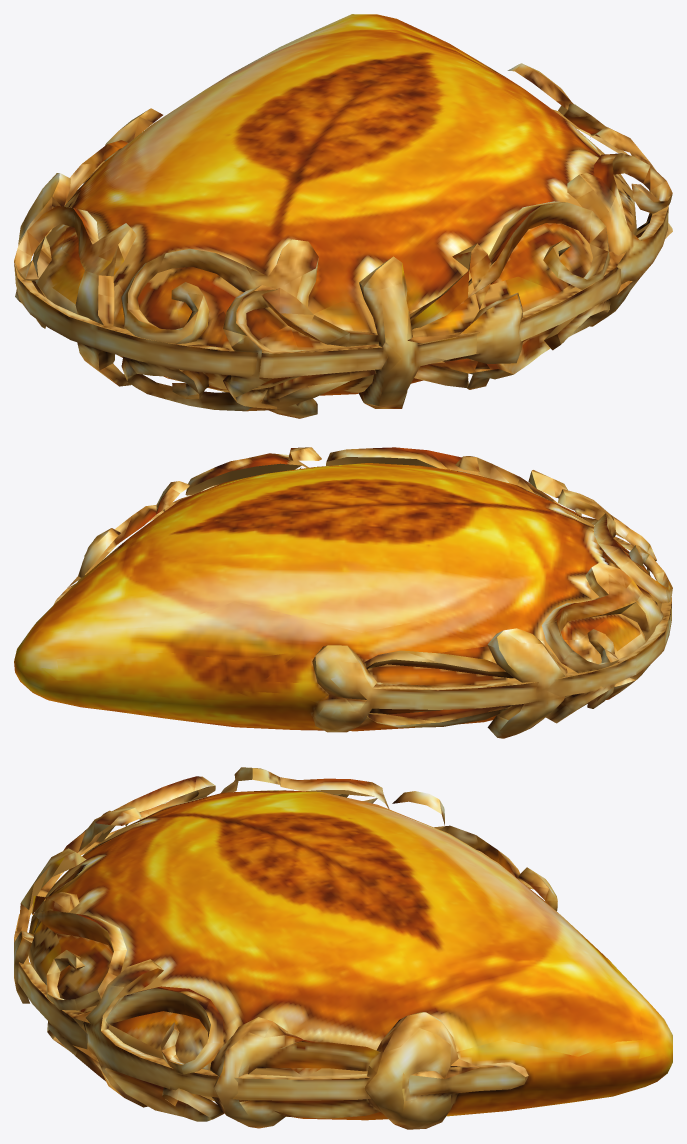
The model's file is item_maw_craft_gem14.glb.
The picture shows the model from 3 angles, top to bottom: view 1: azimuth 30°, elevation 25°; view 2: azimuth 150°, elevation 25°; view 3: azimuth 270°, elevation 25°; orthographic projection. The views are drawn at different scales.
Parts seen in each view (by area): view 1: maw_gem14; view 2: maw_gem14; view 3: maw_gem14.
Boxes of the visible parts, x1,y1,x2,y2 form: maw_gem14: (14,14,672,418); maw_gem14: (14,447,672,738); maw_gem14: (14,767,672,1129).
Size of the model in its own units: 1 by 0.3574 by 0.9999.
1 material, 1 textured.
